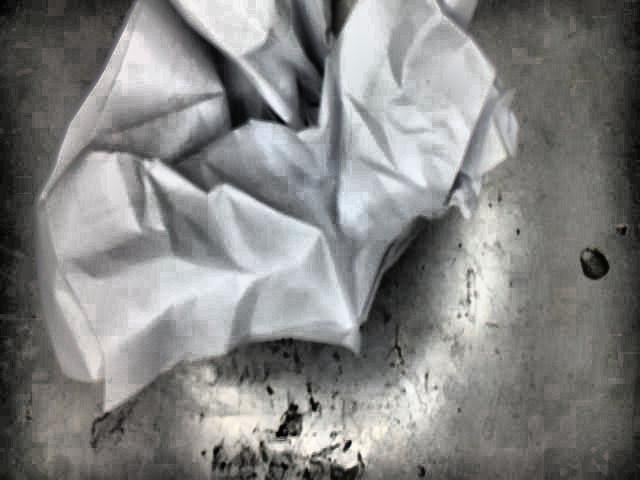Paper: (35, 0, 518, 410)
